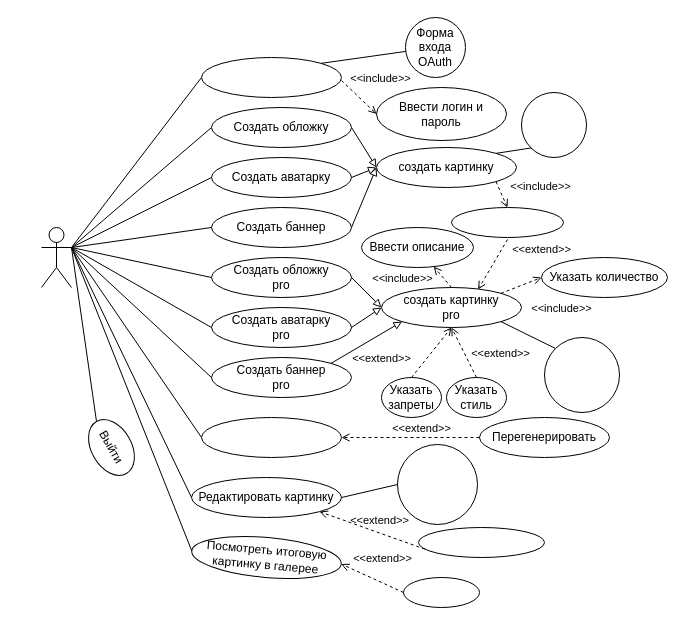
Image size: 685x625. Some labels were removed from this diagram. Here are the shapes that lost their labels. From the top down, the centre of each, then its label:
At point (271, 77): "Авторизоваться".
At point (553, 125): "Форма генерации".
At point (507, 222): "загрузить видео".
At point (56, 257): "Пользователь".
At point (582, 374): "Форма генерации Pro".
At point (271, 437): "Посмотреть результат генерации".
At point (437, 484): "Форма встроенного редактор".
At point (481, 542): "Сохранить в галерею".
At point (441, 592): "Скачать".
